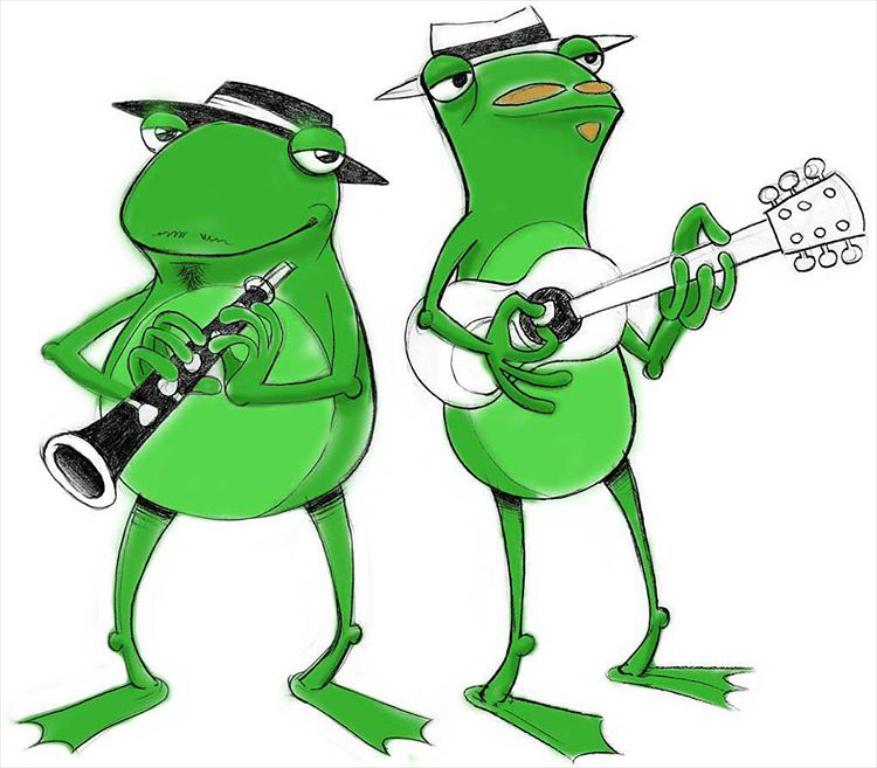Frog: (372, 4, 753, 767), (10, 77, 436, 755)
